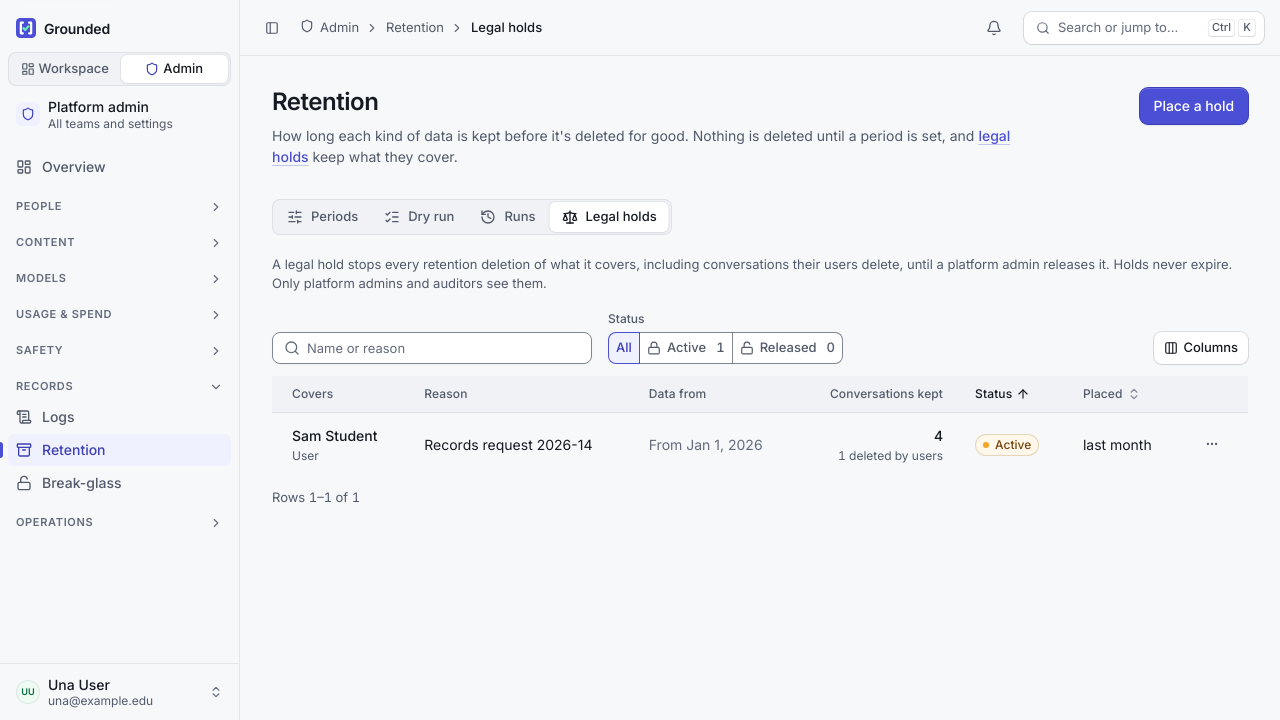
Test case: Admin → Retention › Legal holds › lists holds, shows what a hold keeps (including conversations users deleted) and releases one with a reason
This screenshot has width=1280, height=720.
Expected: the text "1 deleted by users" is shown, x1=838 y1=448 x2=943 y2=464
Expected: the button named "Actions for Hold on Sam Student, placed " is shown, x1=1196 y1=428 x2=1228 y2=460
Click the text "Sam Student".
click(335, 435)  # box x1=292 y1=425 x2=378 y2=446
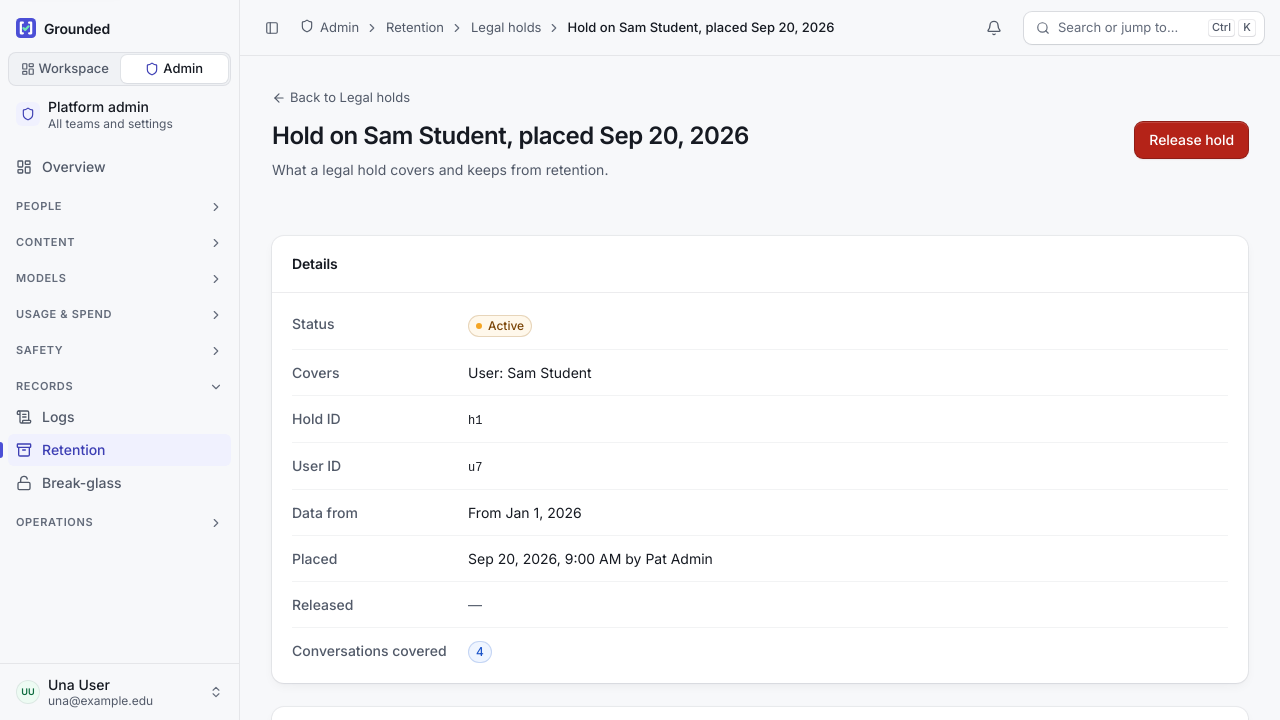
Result: the text "h1" is shown at x1=468 y1=414 x2=482 y2=428
Result: the text "User ID" is shown at x1=292 y1=456 x2=341 y2=474
Click the button "Release hold".
click(1192, 140)  # box x1=1135 y1=122 x2=1248 y2=158
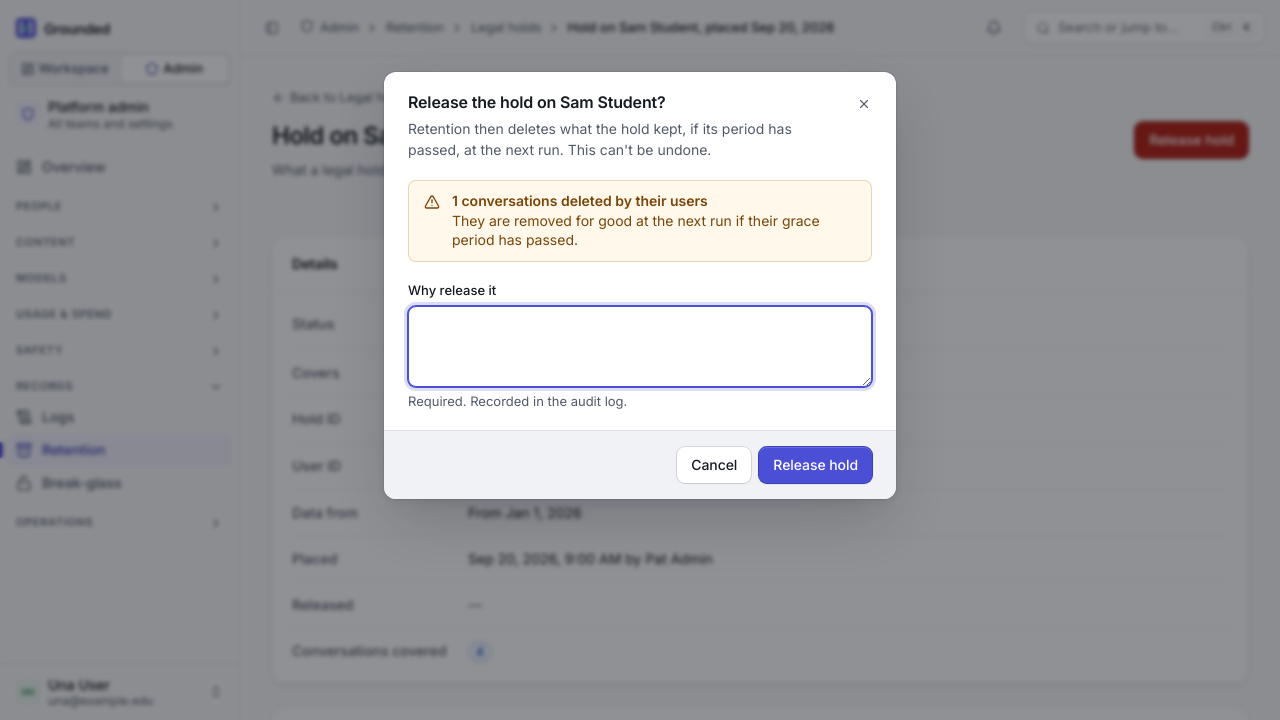
Click the button "Release hold".
click(816, 465)  # box x1=759 y1=447 x2=872 y2=483
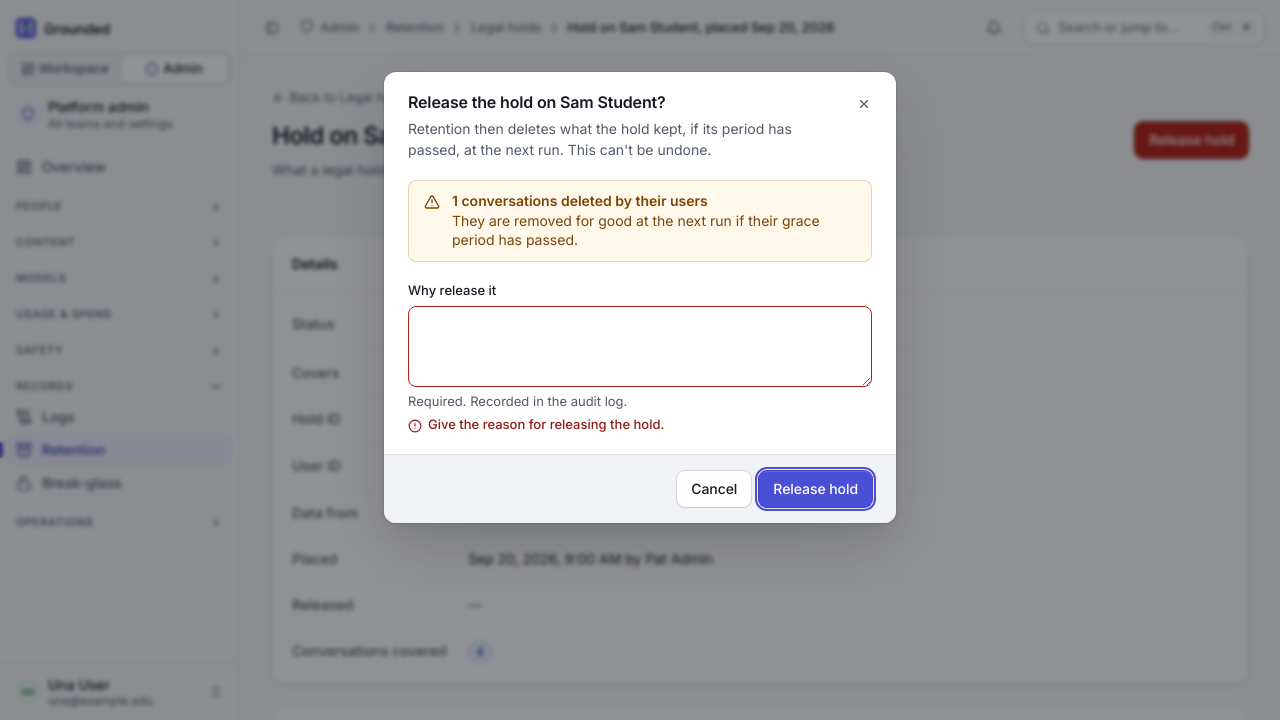
Result: the text "Give the reason for releasing the hold." is shown at x1=428 y1=416 x2=664 y2=434
Type "Request fulfilled" into the text box labelled "Why release it".
click(640, 346); type("Request fulfilled")  # box x1=408 y1=306 x2=872 y2=387
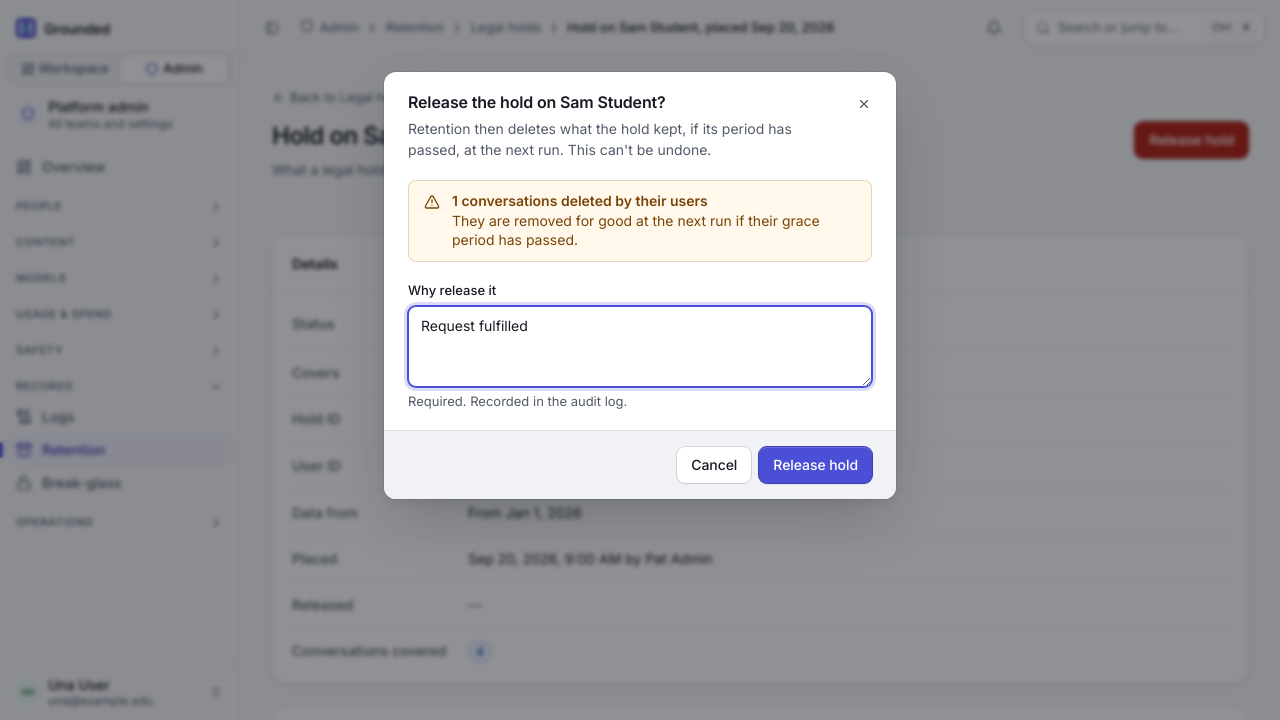
Click the button "Release hold".
click(816, 465)  # box x1=759 y1=447 x2=872 y2=483
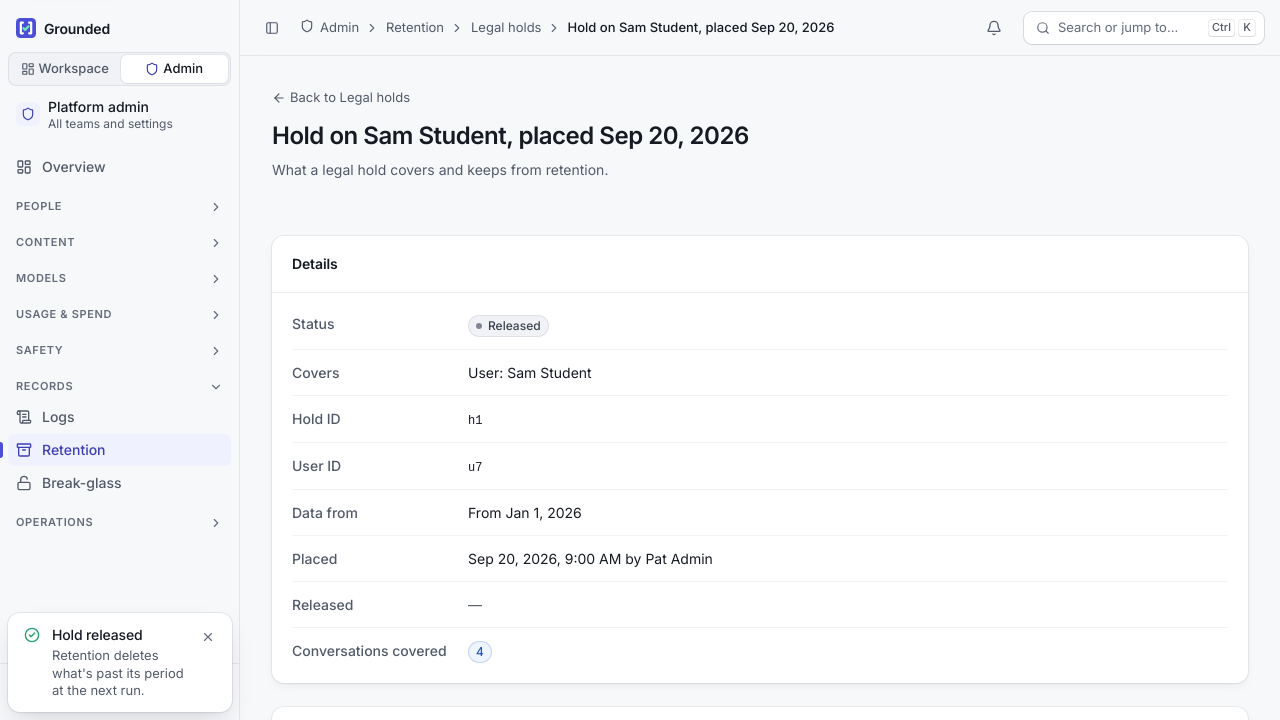
Result: the button "Release hold" is gone
